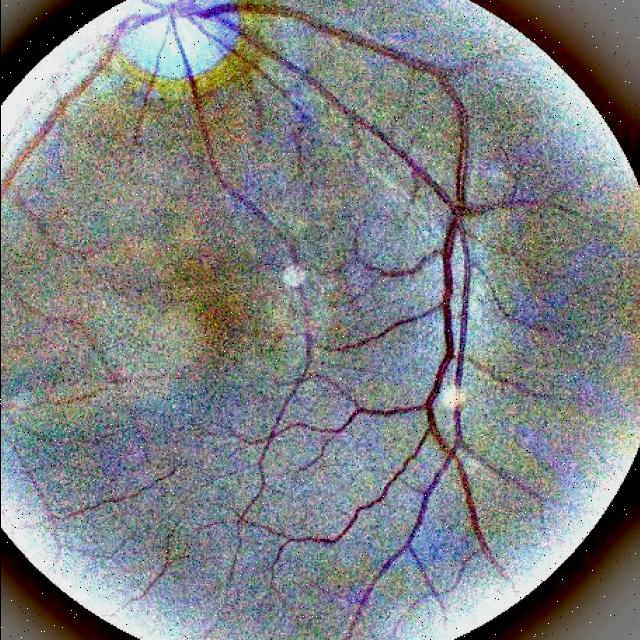Macula: (200, 301, 240, 365)
Nerves: (212, 0, 512, 578), (0, 0, 203, 243)
Optic Disk: (114, 0, 237, 77)
